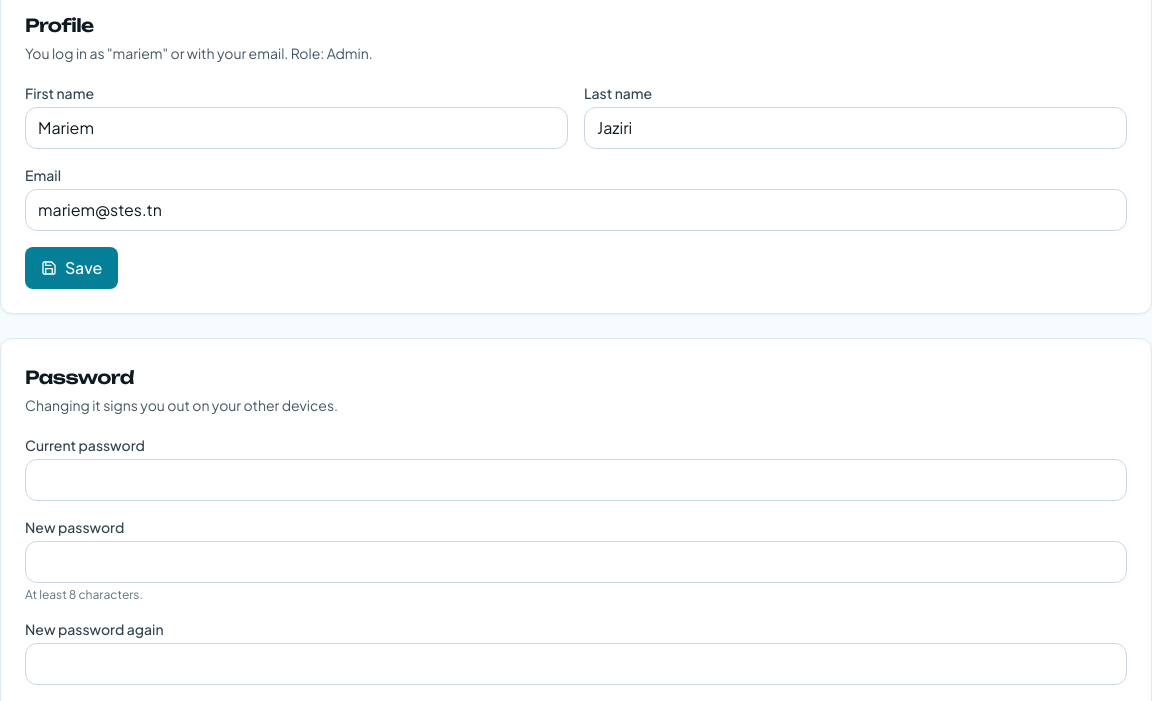
Test: admin settings › checks the new password before sending it
The image size is (1152, 701).
Type "ancien-mdp" into the password field labelled "Current password" at [576, 480], box x1=25 y1=459 x2=1127 y2=501
Type "court" into the password field labelled "New password" at [576, 562], box x1=25 y1=541 x2=1127 y2=583
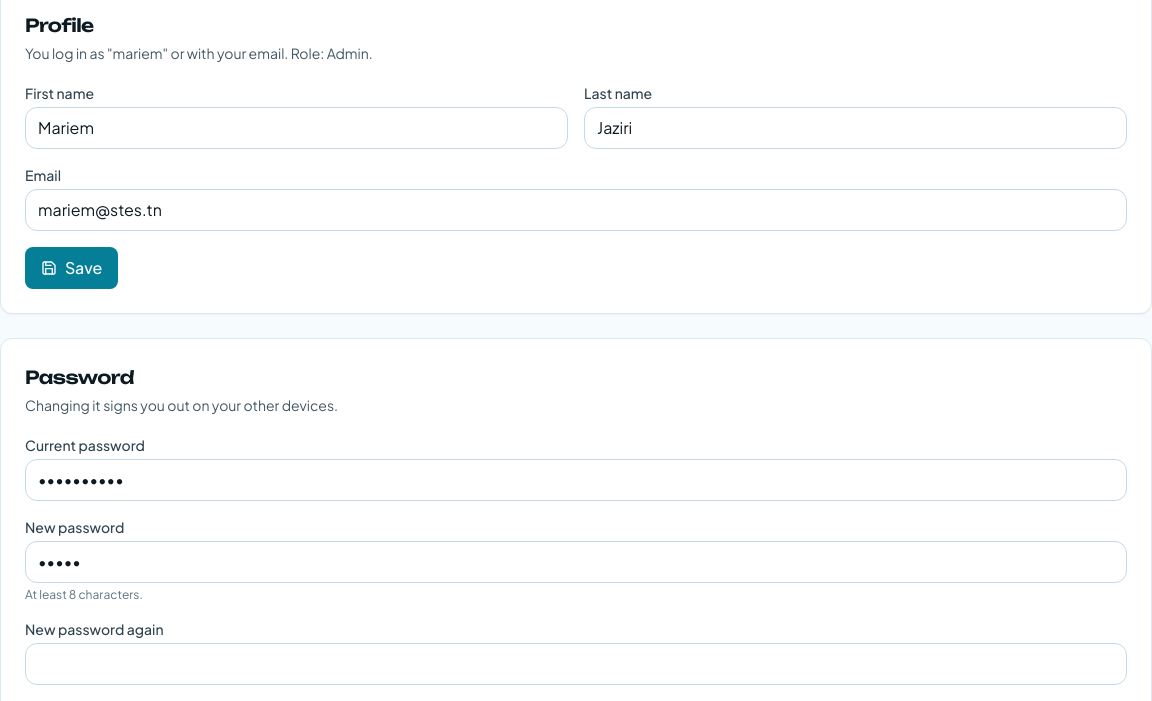
Type "court" into the password field labelled "New password again" at [576, 664], box x1=25 y1=643 x2=1127 y2=685
(page scrolled)
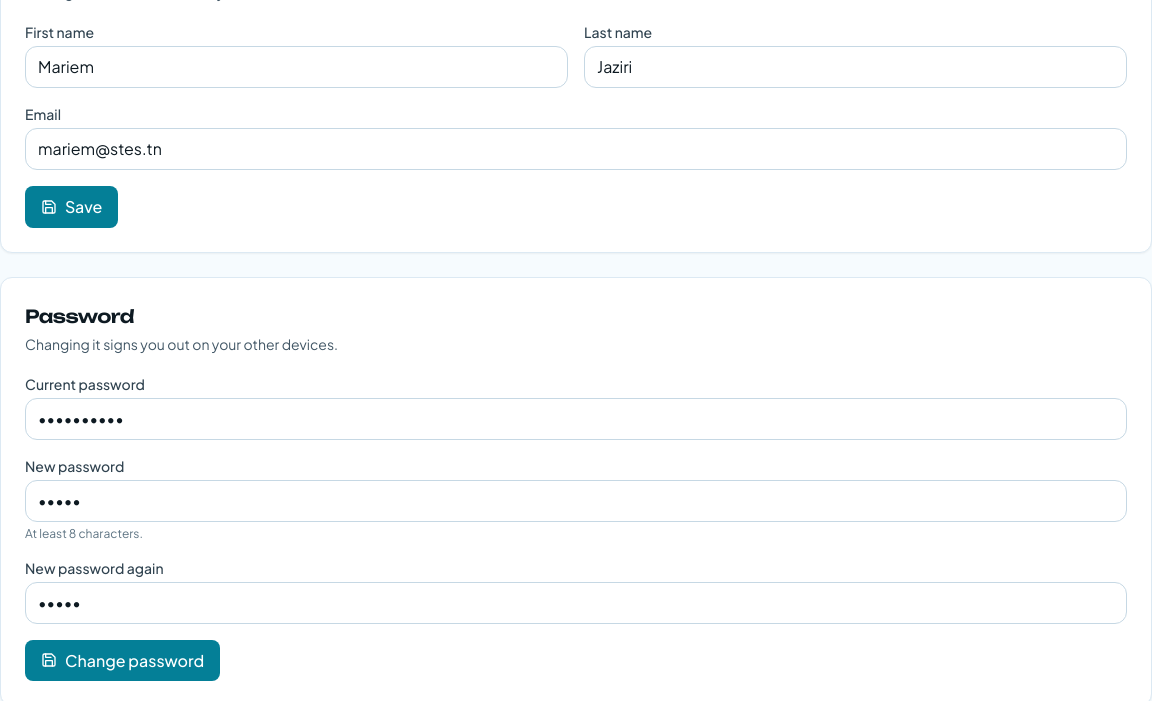
Click the button "Change password" at [123, 660], box x1=25 y1=640 x2=220 y2=681
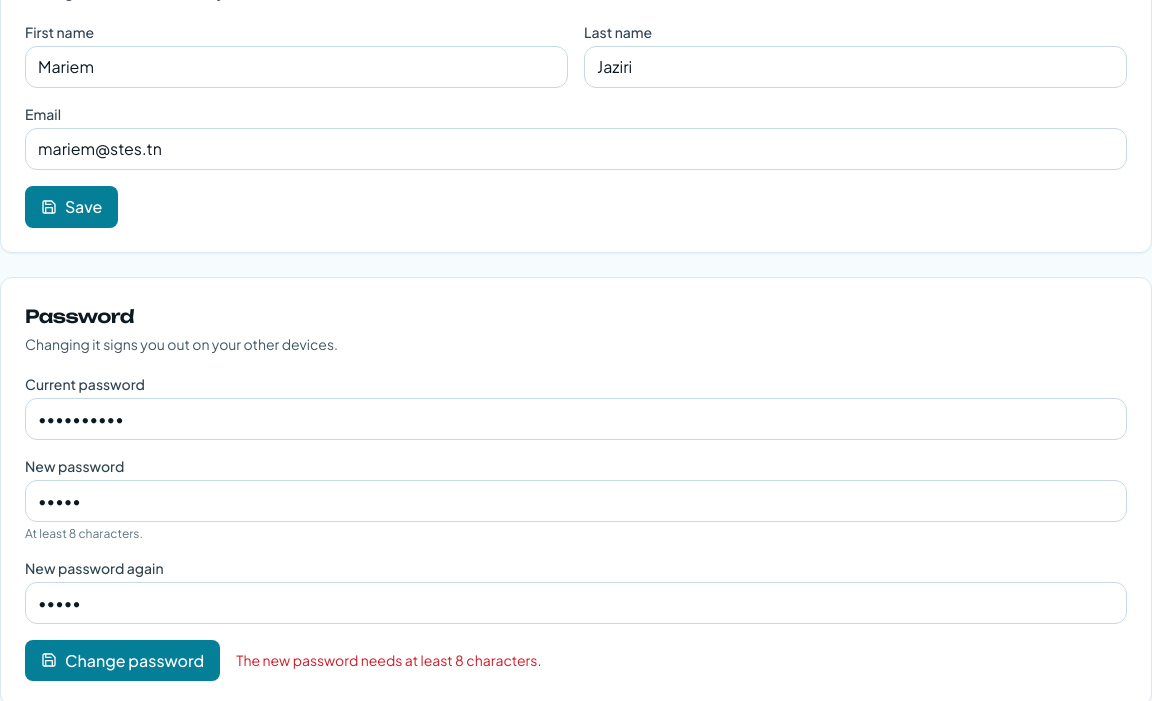
Check: the message shows "at least 8", box x1=236 y1=651 x2=542 y2=669
Type "nouveau-mdp-2" into the password field labelled "New password" at [576, 501], box x1=25 y1=480 x2=1127 y2=522
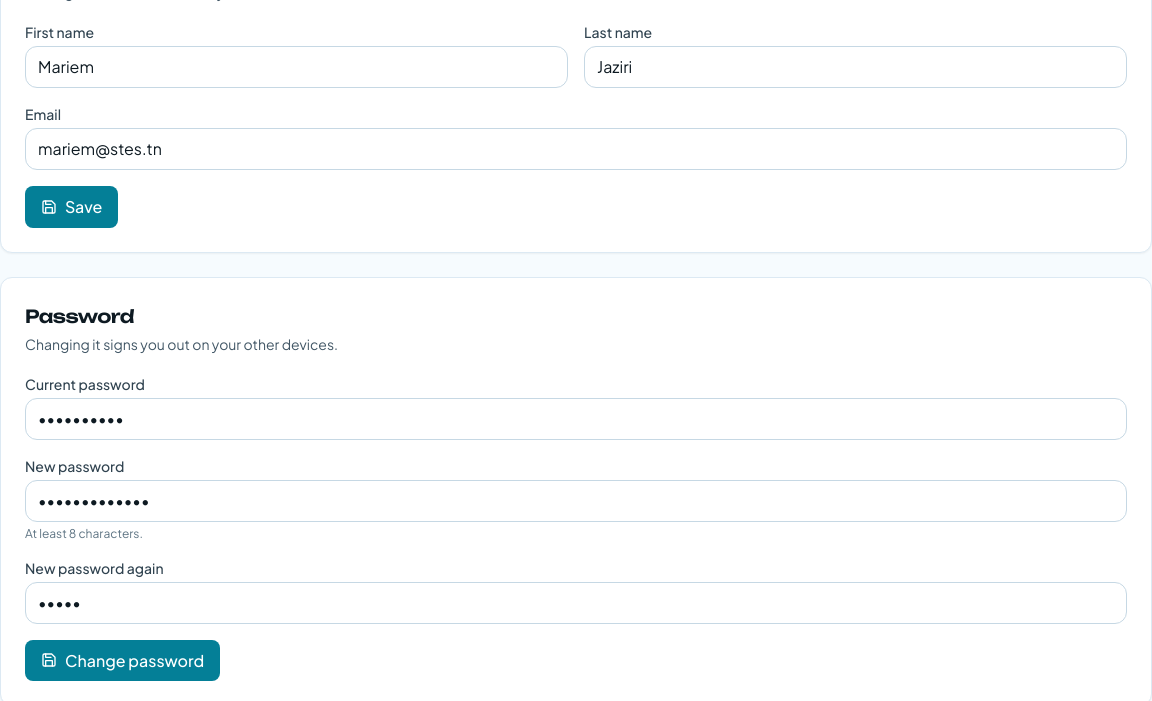
Type "nouveau-mdp-3" into the password field labelled "New password again" at [576, 603], box x1=25 y1=582 x2=1127 y2=624
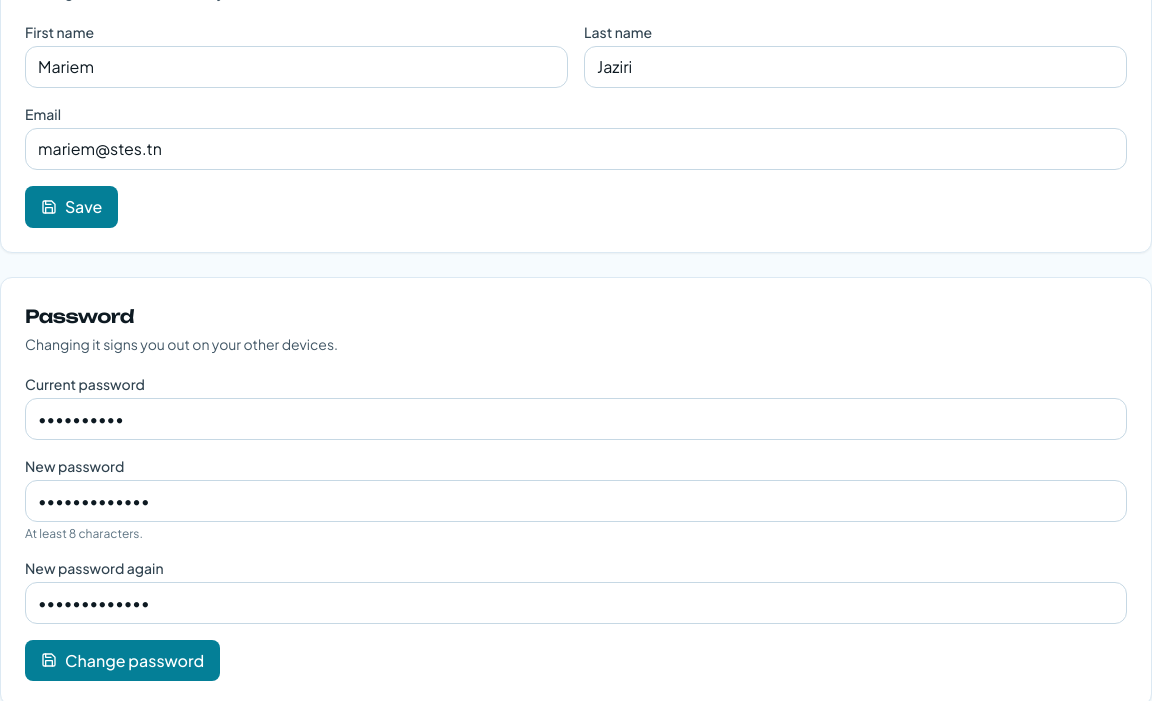
Click the button "Change password" at [123, 660], box x1=25 y1=640 x2=220 y2=681
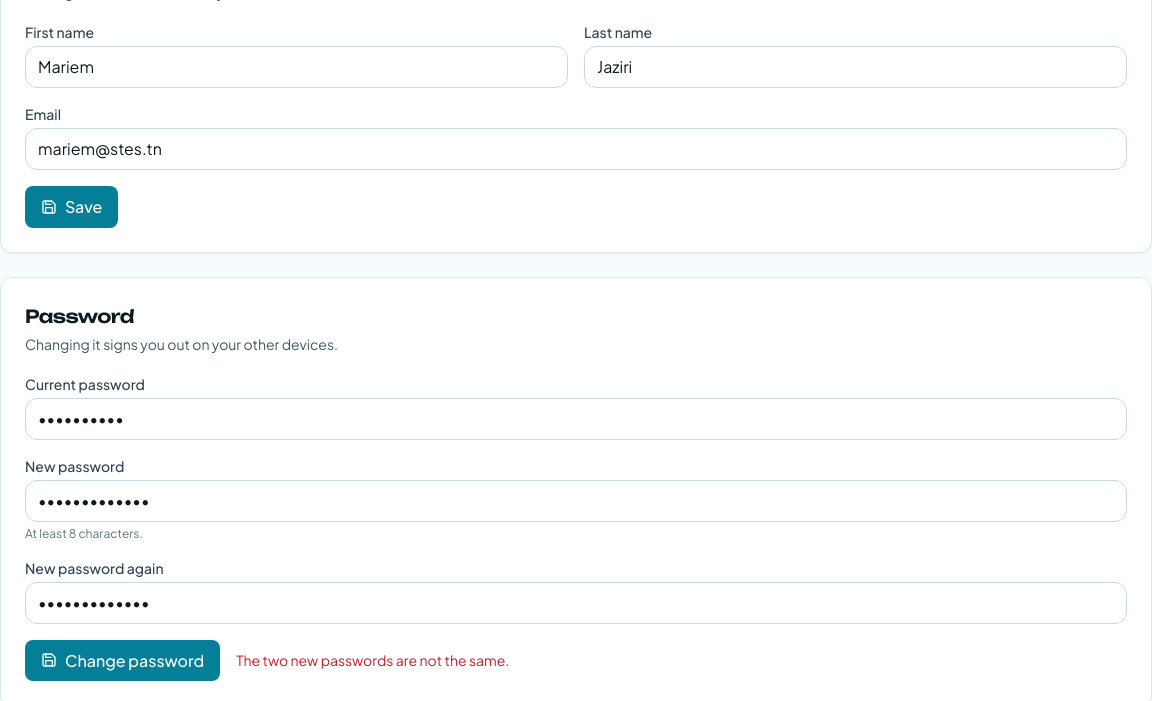
Check: the message shows "not the same", box x1=236 y1=651 x2=509 y2=669
